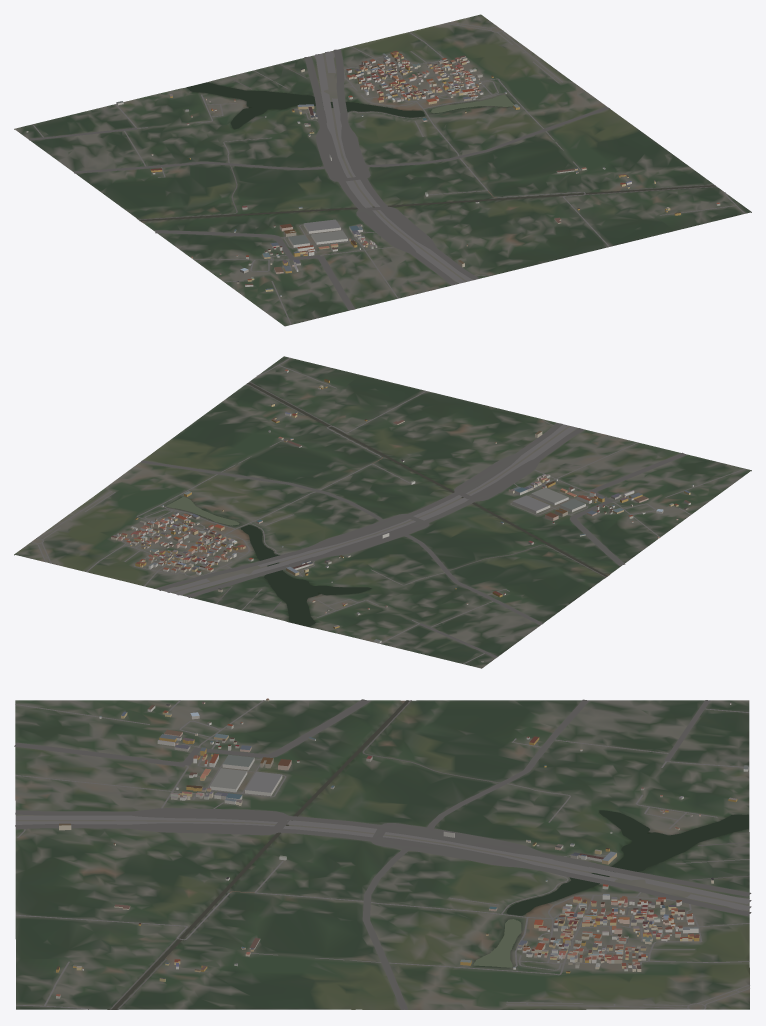
3 renders of one model, top to bottom at view 1: azimuth 30°, elevation 25°; view 2: azimuth 150°, elevation 25°; view 3: azimuth 270°, elevation 25°, orthographic. The views are drawn at different scales.
Visible parts, largest first — view 1: ground, roads, buildings, water; view 2: ground, roads, buildings, water; view 3: ground, roads, buildings, water.
Part boxes in pixels (x1,y1,x2,y2): ground: (14,14,751,326); roads: (29,22,745,324); buildings: (26,50,720,296); water: (139,82,715,221); ground: (14,356,751,668); roads: (31,357,745,663); buildings: (111,369,693,662); water: (166,382,607,626); ground: (15,700,749,1009); roads: (14,699,751,1009); buildings: (56,698,748,998); water: (112,700,748,1009).
Bounding box in the file's own units: 1405 × 15.65 × 1410.
